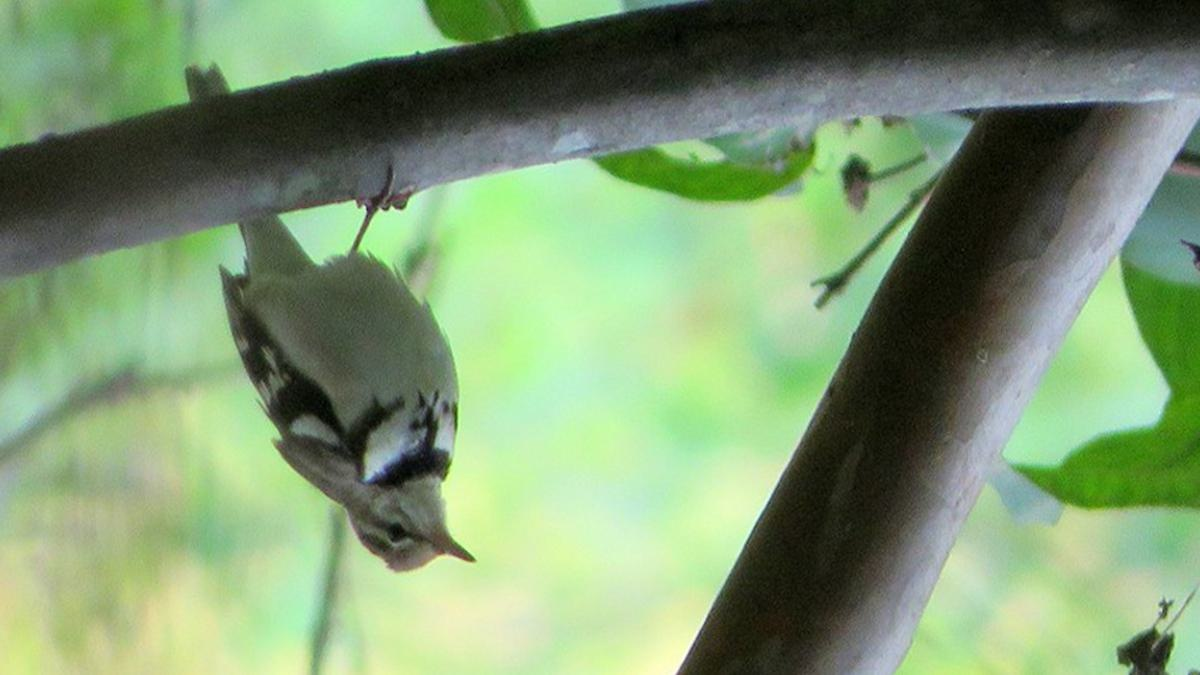wagtail: (213, 223, 487, 578)
